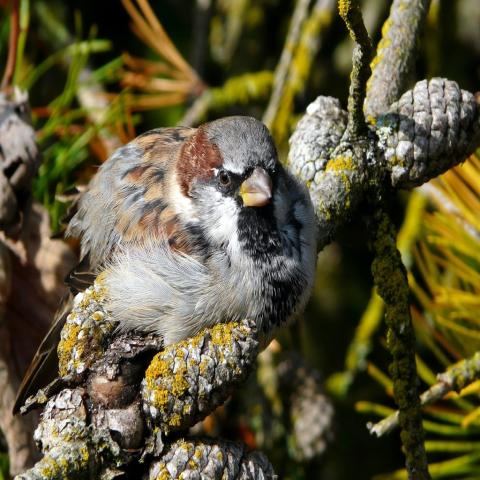bird: (12, 112, 318, 416)
